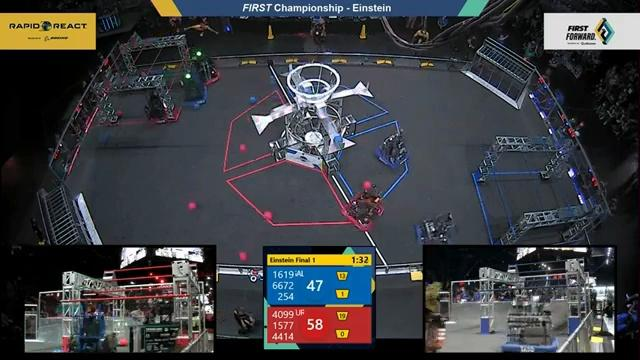robot: (337, 181, 390, 234), (184, 43, 224, 91), (411, 213, 460, 251), (173, 65, 211, 112), (140, 82, 178, 128), (373, 126, 411, 172)
